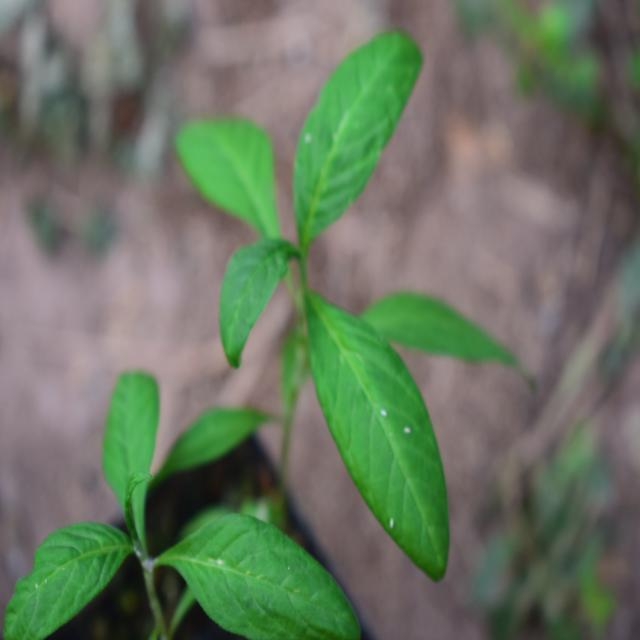white_smart_weed: (202, 14, 482, 598), (0, 350, 369, 636)
